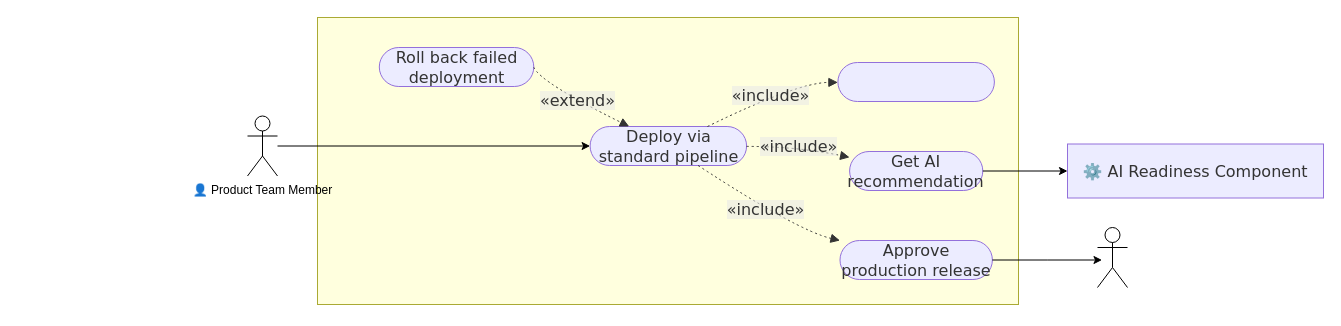
This 1341x326 diagram has some shape labels left out. The shapes that lost their labels are listed below. From the top down, each one's box as (x1, y1, x2, y2) in pixels, then its label:
(837, 62, 994, 102): Build, test and security scan
(316, 16, 1018, 304): Standardized DevOps Platform
(1096, 226, 1128, 288): 👤 Product owner
